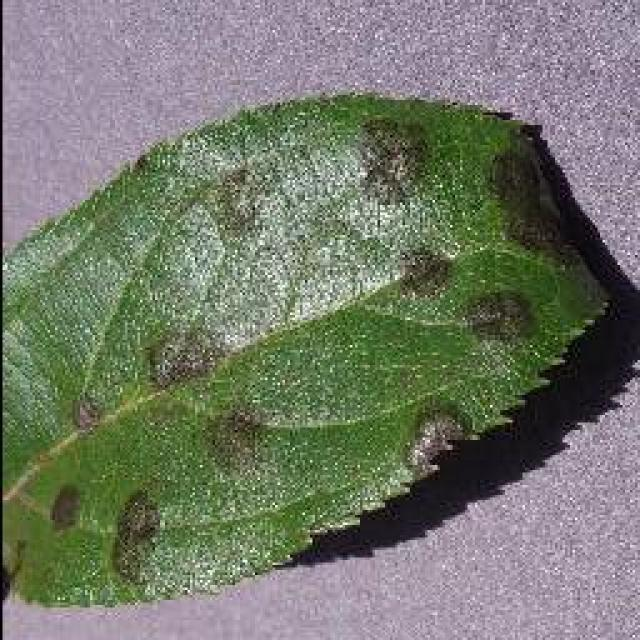apple scab disease: (0, 87, 612, 610)
